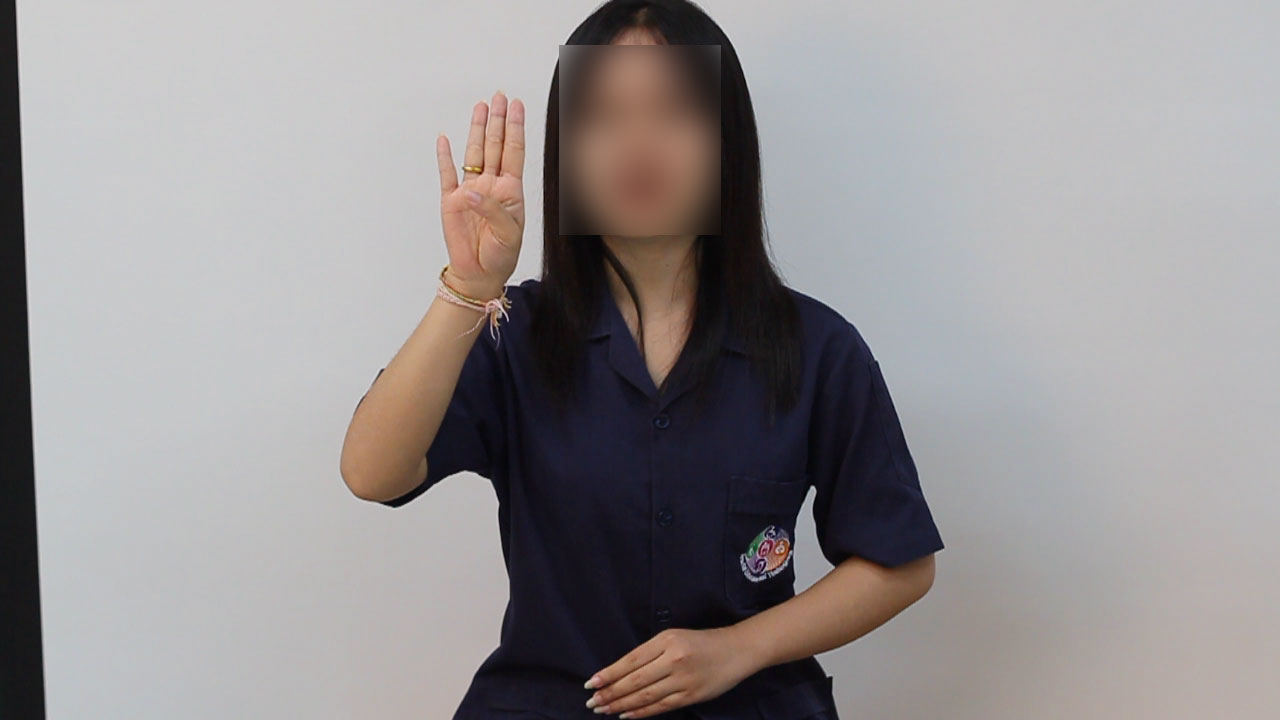bor: (414, 78, 544, 310)
